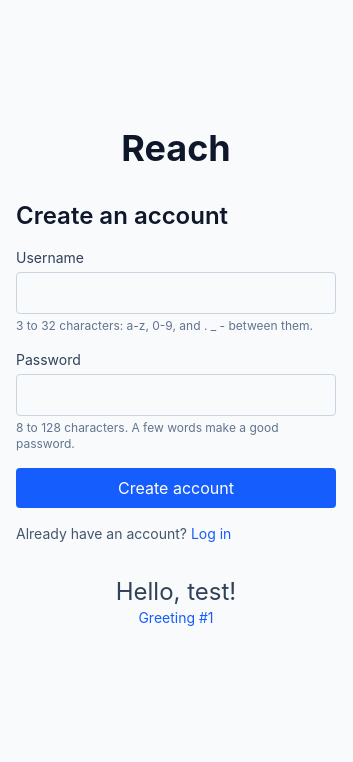
signs you up, logs you in and shows your chats
The width and height of the screenshot is (353, 762).
Expected: the heading "Create an account" is shown, [16, 201, 228, 230]
In the field labelled "Username": (176, 293) [16, 272, 336, 314], type "sadra"
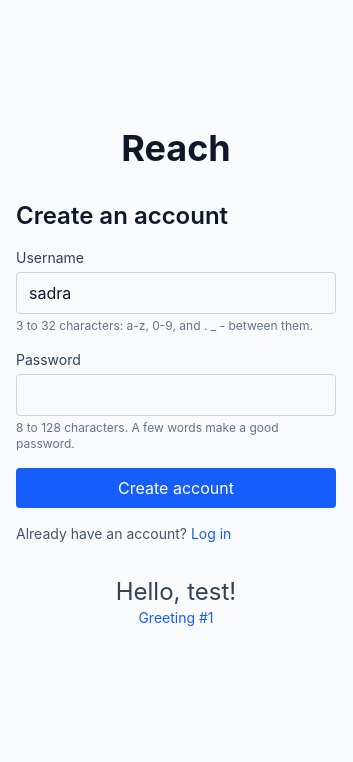
In the password field labelled "Password": (176, 395) [16, 374, 336, 416], type "purple tram winter"
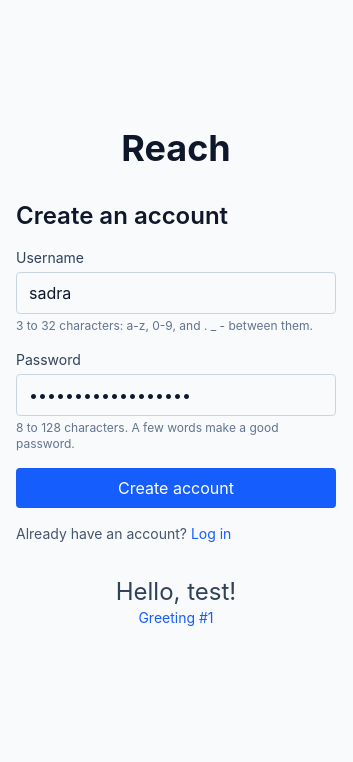
Click the button "Create account": (176, 488) [16, 468, 336, 508]
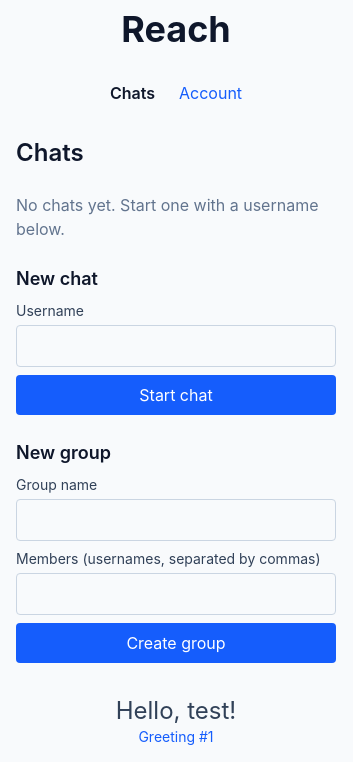
Result: the heading "Chats" is shown at [16, 138, 84, 167]
